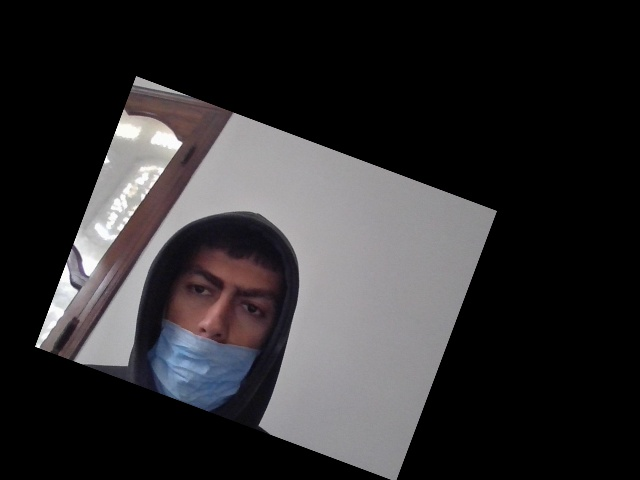mask_weared_incorrect: (146, 227, 296, 424)
